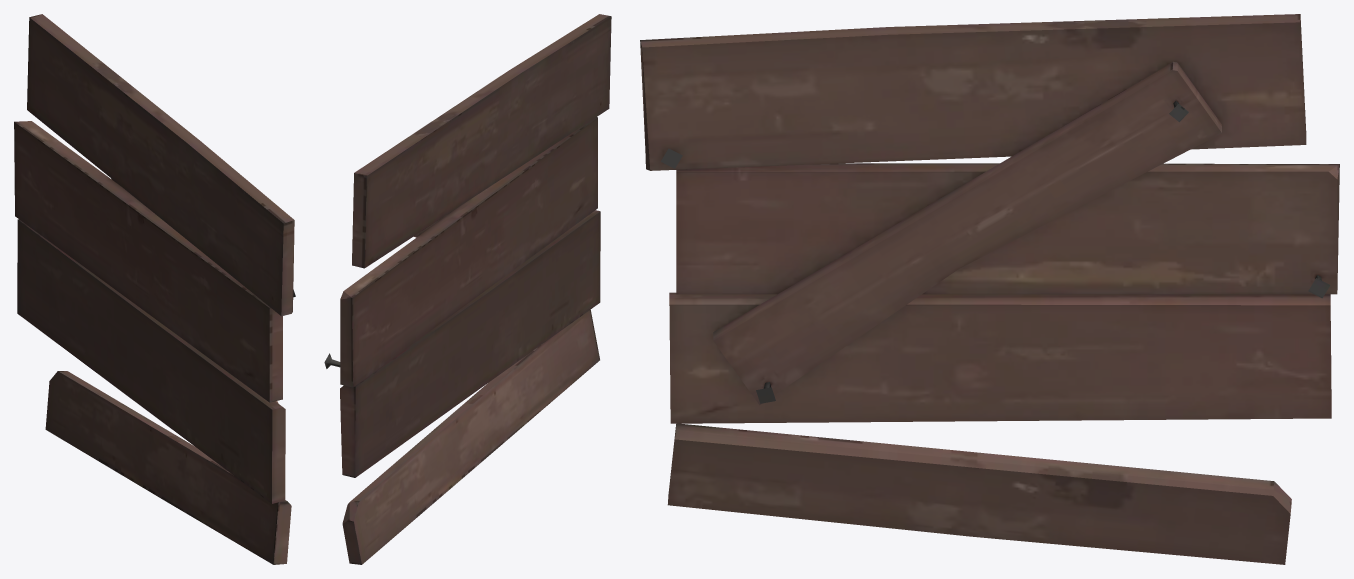
The picture shows the model from 3 angles, left to right: view 1: azimuth 30°, elevation 25°; view 2: azimuth 150°, elevation 25°; view 3: azimuth 270°, elevation 25°; orthographic projection. The views are drawn at different scales.
Parts seen in each view (by area): view 1: body0_model0_lod0_mesh0; view 2: body0_model0_lod0_mesh0; view 3: body0_model0_lod0_mesh0.
Boxes of the visible parts, <box> form: body0_model0_lod0_mesh0: <box>14,14,295,564</box>; body0_model0_lod0_mesh0: <box>324,14,611,564</box>; body0_model0_lod0_mesh0: <box>640,14,1339,564</box>.
Bounding box in the file's own units: 15.87 × 132 × 156.
1 material, 1 textured.
